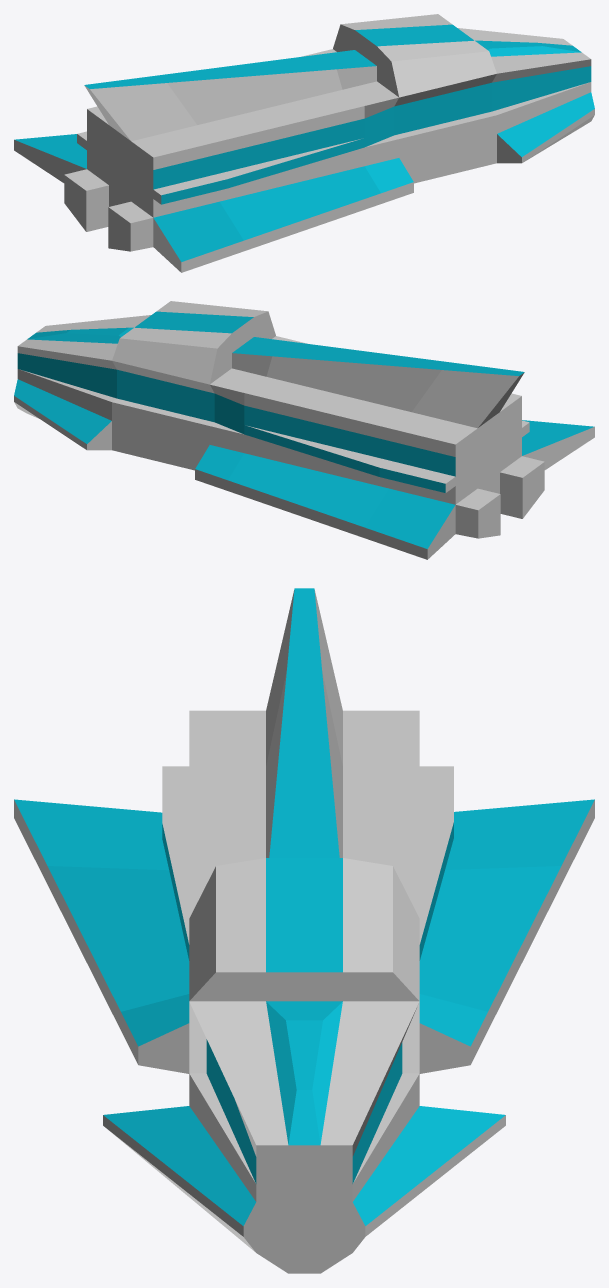
Rendered from ship.fbx.
3 views of the same model, one above another, from view 1: azimuth 30°, elevation 25°; view 2: azimuth 150°, elevation 25°; view 3: azimuth 270°, elevation 25° (orthographic). The views are drawn at different scales.
Parts seen in each view (by area): view 1: Cube; view 2: Cube; view 3: Cube.
Part boxes in pixels (x1=…): Cube: x1=14, y1=14, x2=594, y2=272; Cube: x1=14, y1=301, x2=594, y2=559; Cube: x1=14, y1=588, x2=594, y2=1273.
Size of the model in its own units: 853 by 259 by 504.
